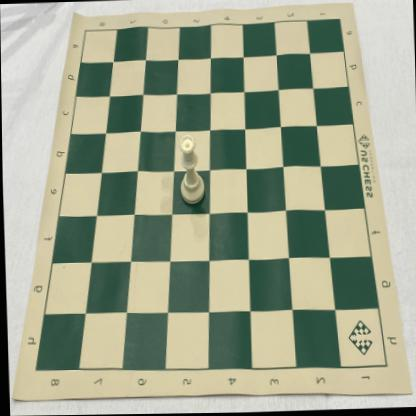white-queen: (178, 134, 204, 207)
